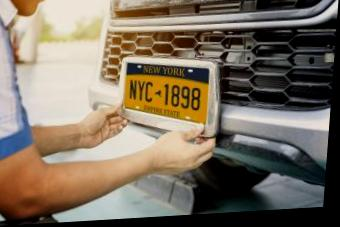License_Plate: (115, 49, 221, 142)
